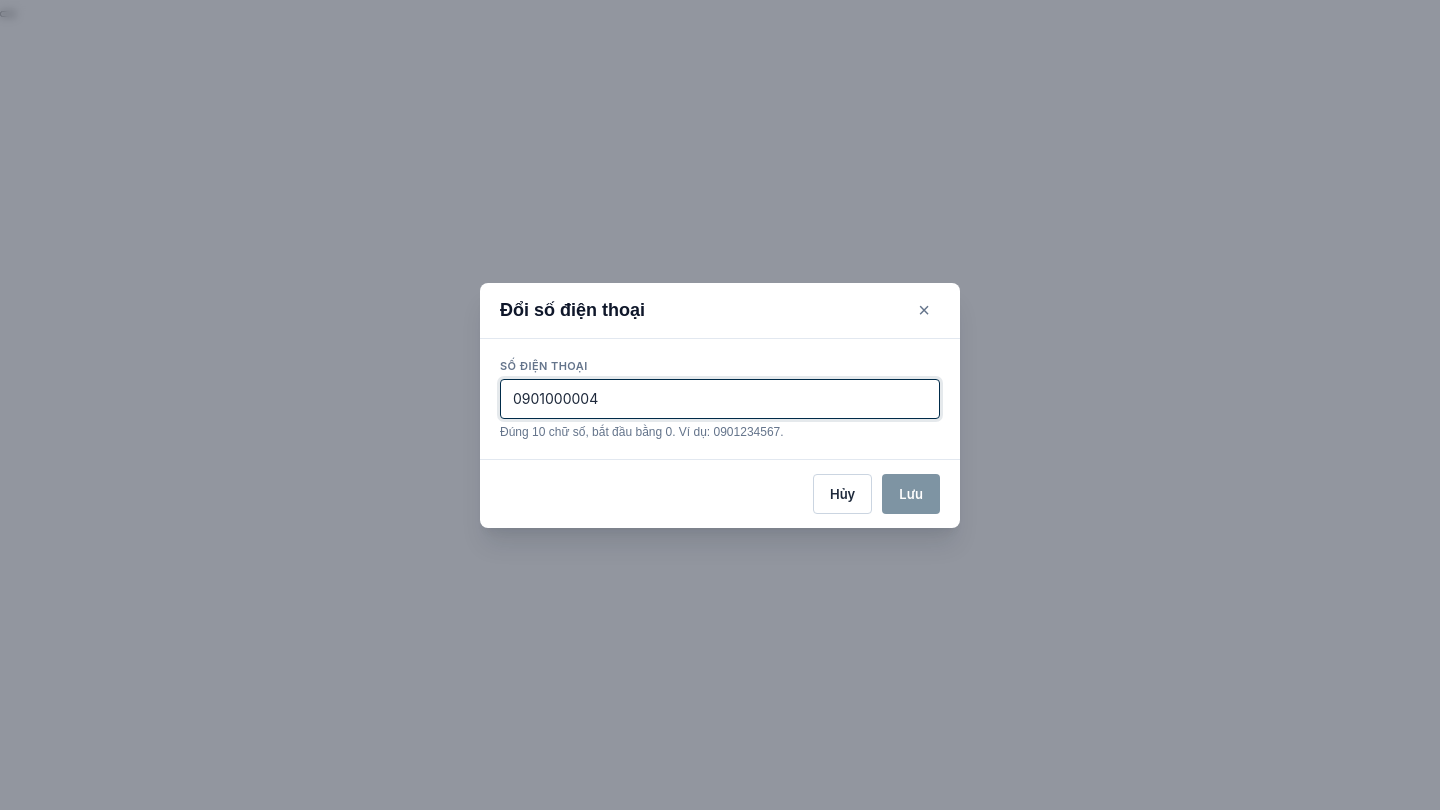
Scenario: ChangePhoneDialogComponent › stays open with the typed number and an error when saving fails
The image size is (1440, 810).
Replace the text in the field labelled "Số điện thoại" with "0901000999" at (720, 398), box 500,378 -> 940,418
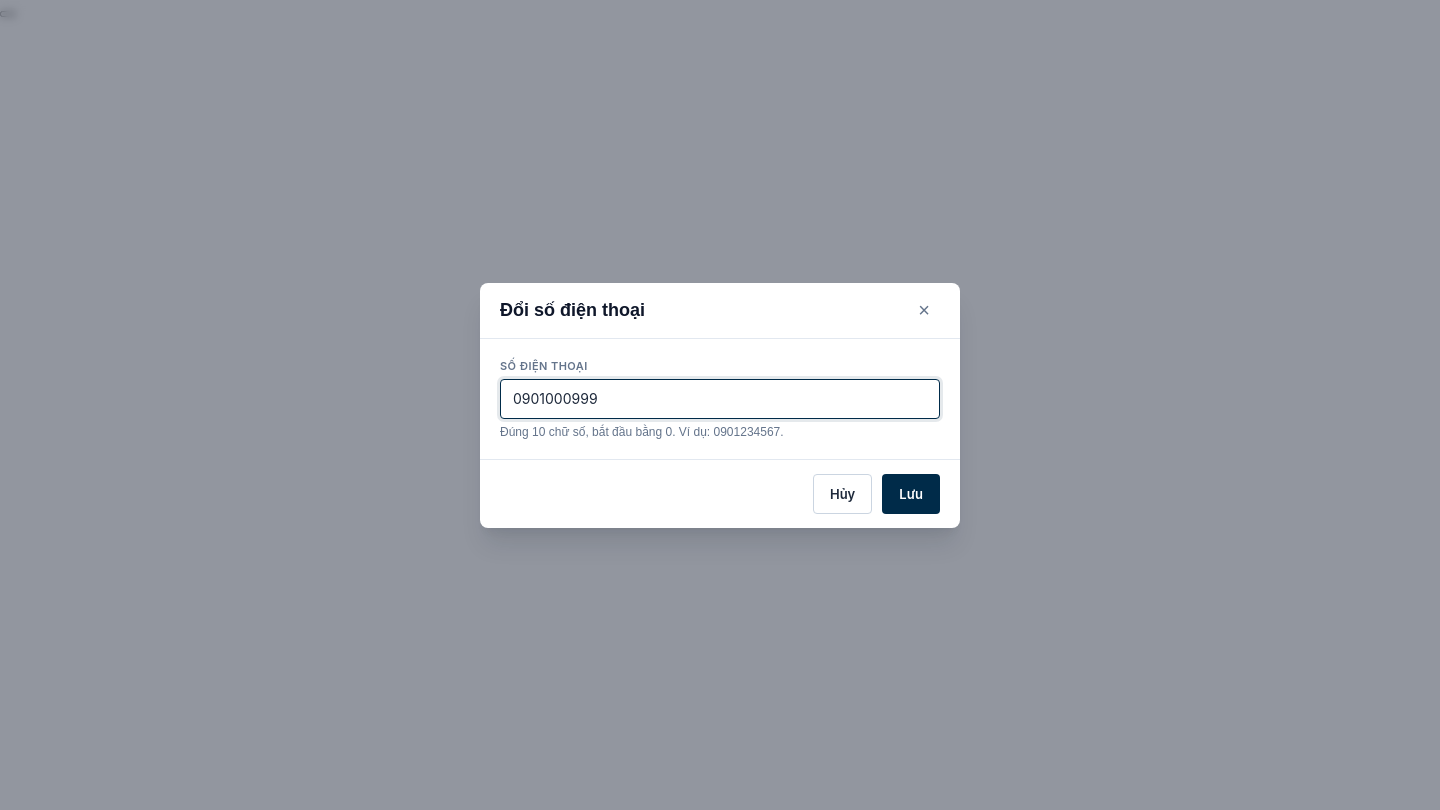
Click the submit button at (911, 494), box 882,474 -> 940,514
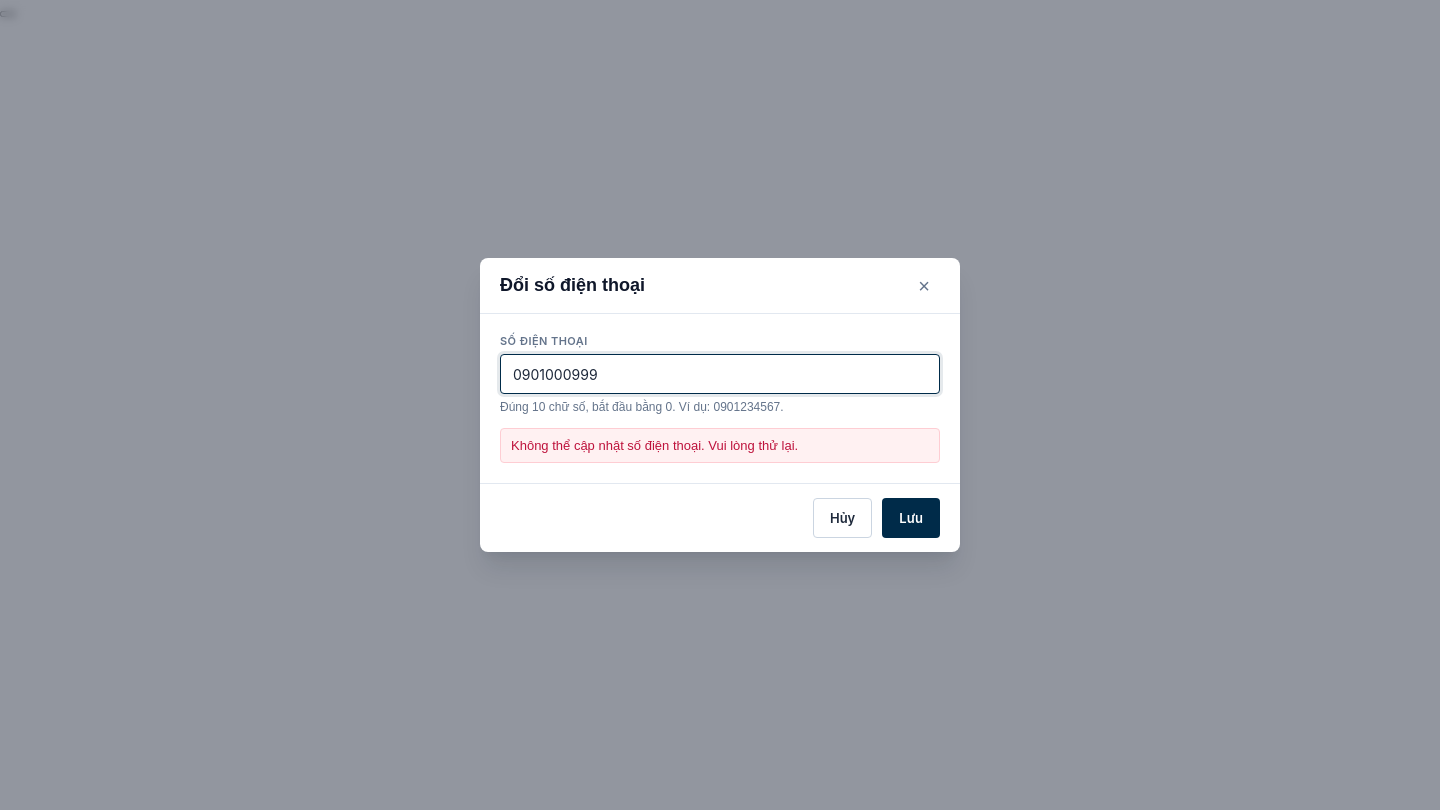
expect the message "Không thể cập nhật số điện thoại. Vui lòng thử lại." is shown: met, box 500,428 -> 940,463
